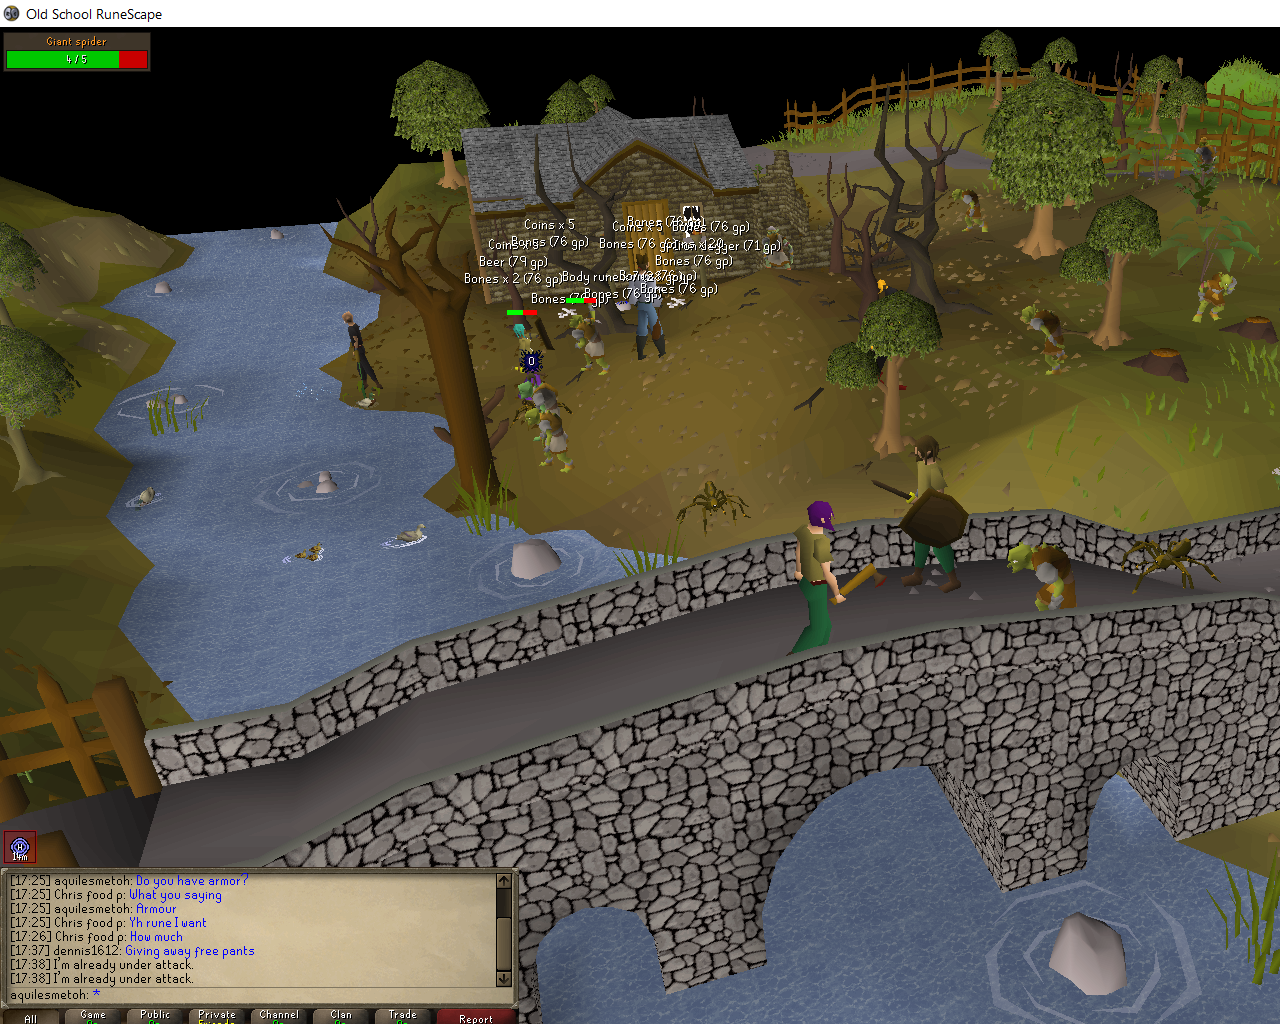Goblin: (1004, 542, 1084, 619), (1019, 305, 1068, 376), (525, 408, 576, 473), (517, 382, 569, 443), (567, 315, 614, 377), (1191, 272, 1240, 324), (951, 186, 992, 233)
